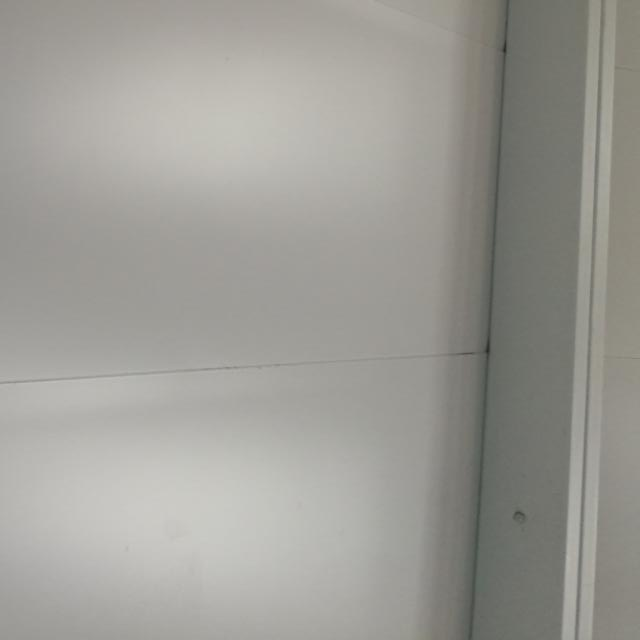fluorescent tube: (0, 0, 104, 602)
